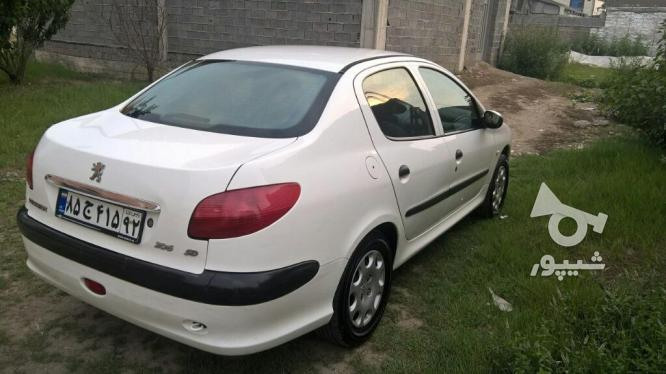car: (55, 183, 144, 240)
